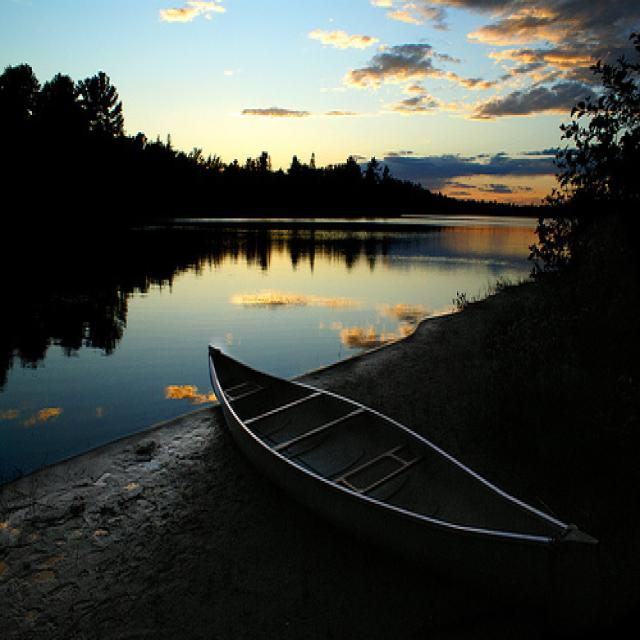Boat: (186, 330, 640, 618)
